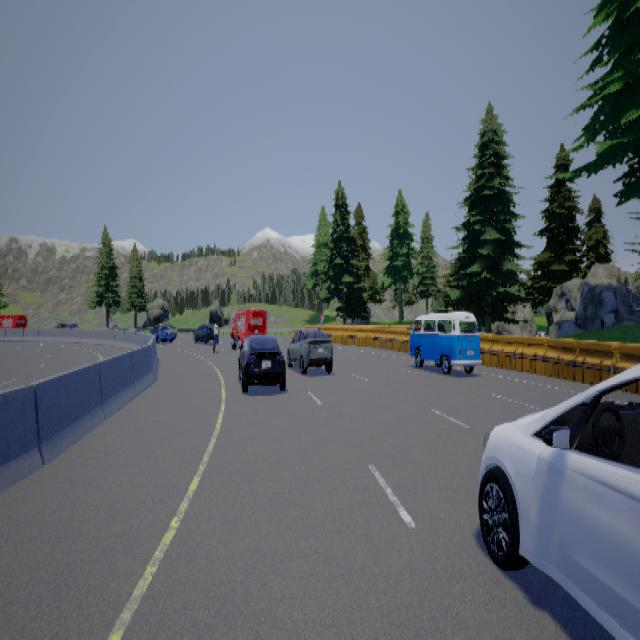vehicle: (477, 362, 639, 638), (408, 310, 481, 374), (236, 330, 285, 394), (286, 327, 332, 374), (228, 305, 269, 352), (192, 318, 220, 352), (143, 316, 174, 344)
